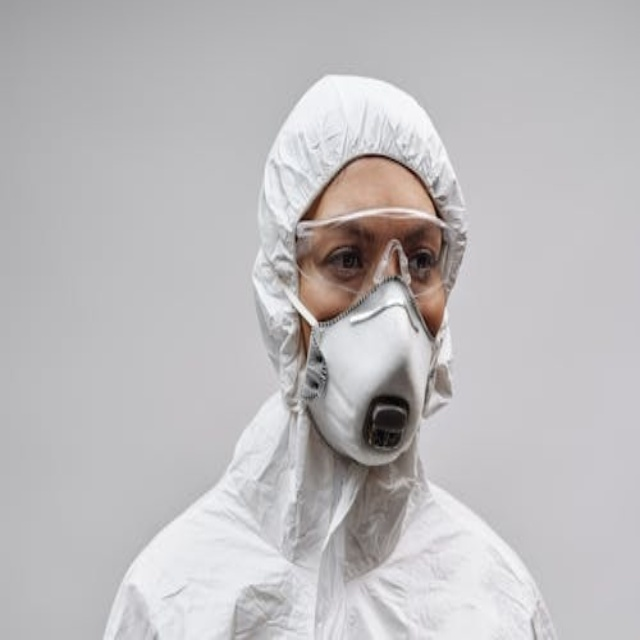Gafas: (290, 207, 461, 300)
Mascara: (301, 270, 436, 467)
